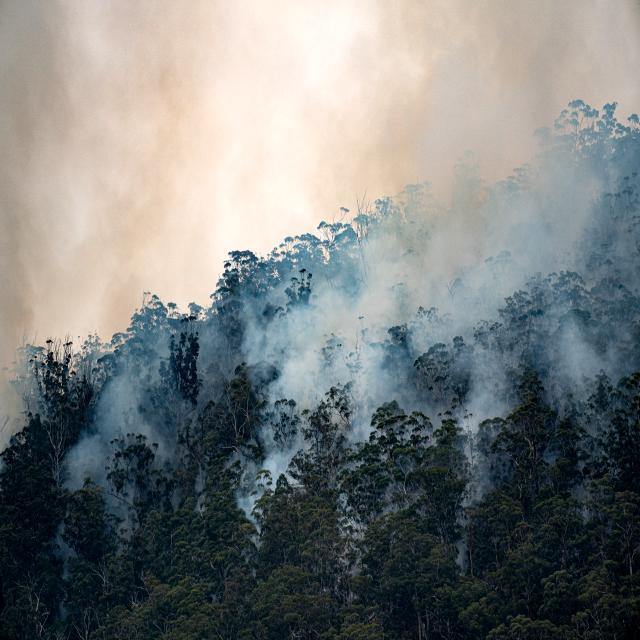Smoke: (60, 0, 640, 507)
